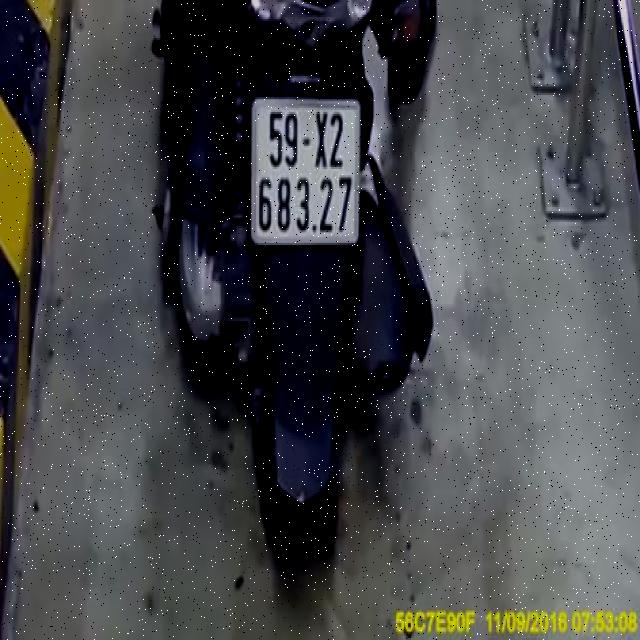2: (318, 174, 336, 234), (328, 111, 346, 171)
3: (295, 174, 312, 234)
5: (265, 109, 285, 168)
6: (254, 173, 274, 238)
7: (335, 170, 358, 238)
8: (276, 174, 294, 236)
9: (283, 111, 302, 167)
X: (310, 109, 330, 173)
